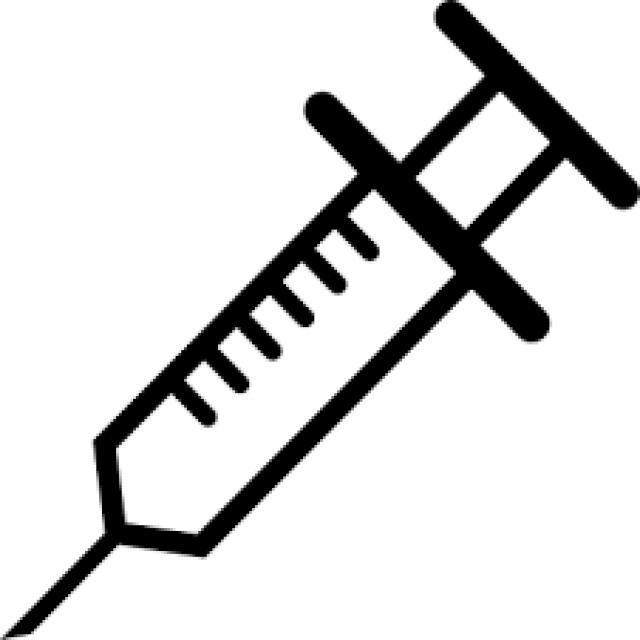syringe: (90, 18, 586, 617)
